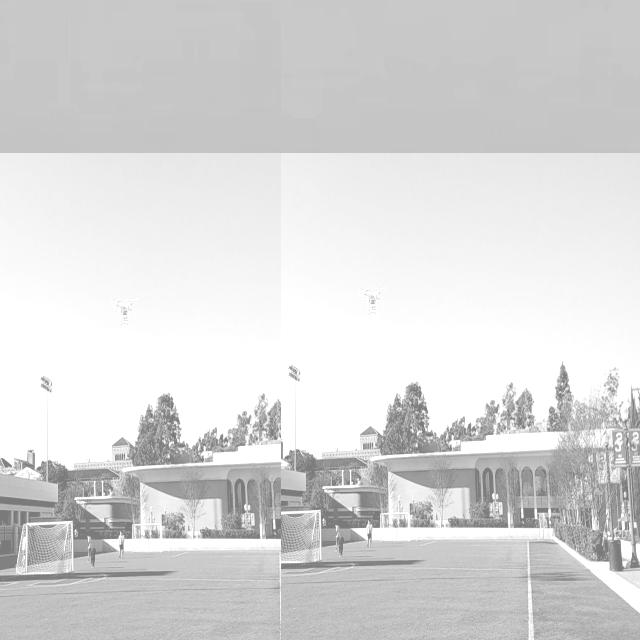drone: (109, 293, 136, 323), (357, 282, 384, 312)
